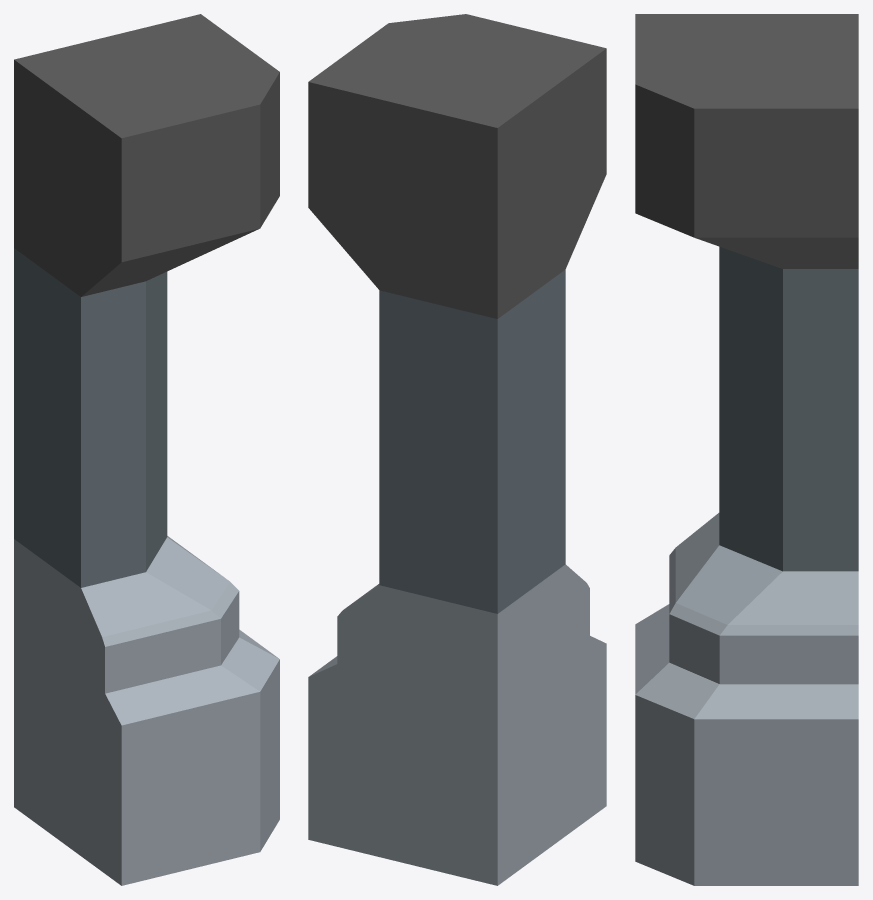
Rendered from SM_Bld_Wall_Corner_Pillar_Wide_04.fbx.
3 views of the same model, side by side, from view 1: azimuth 30°, elevation 25°; view 2: azimuth 150°, elevation 25°; view 3: azimuth 270°, elevation 25° (orthographic). The views are drawn at different scales.
Visible parts, largest first — view 1: SM_Bld_Wall_Corner_Pillar_Wide_04; view 2: SM_Bld_Wall_Corner_Pillar_Wide_04; view 3: SM_Bld_Wall_Corner_Pillar_Wide_04.
Boxes of the visible parts, x1=… form: SM_Bld_Wall_Corner_Pillar_Wide_04: x1=14, y1=14, x2=279, y2=885; SM_Bld_Wall_Corner_Pillar_Wide_04: x1=308, y1=14, x2=606, y2=885; SM_Bld_Wall_Corner_Pillar_Wide_04: x1=635, y1=14, x2=858, y2=885.
Bounding box in the file's own units: 133 × 509 × 133.
1 material, 1 textured.
